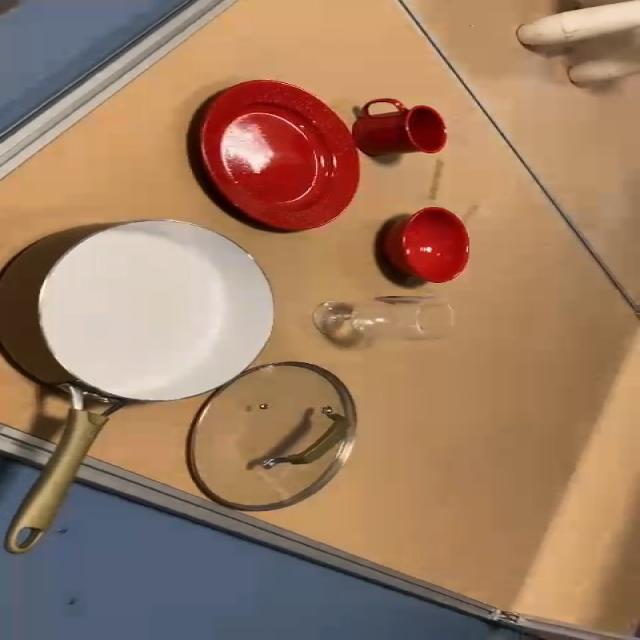Bowl: (380, 206, 473, 290)
Glass: (312, 293, 463, 352)
Plate: (188, 79, 364, 234)
cup: (344, 100, 454, 163)
pot: (7, 220, 286, 554)
